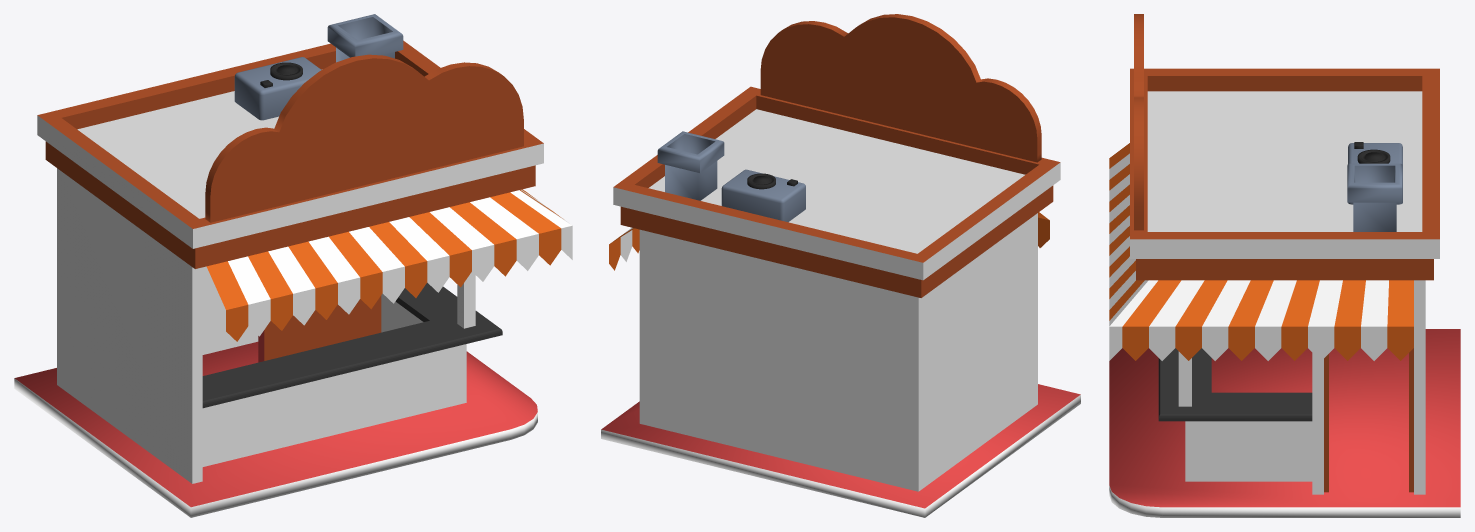
The model's file is Resturant_2.fbx.
The picture shows the model from 3 angles, left to right: view 1: azimuth 30°, elevation 25°; view 2: azimuth 150°, elevation 25°; view 3: azimuth 270°, elevation 25°; orthographic projection. The views are drawn at different scales.
Visible parts, largest first — view 1: Resturant_2; view 2: Resturant_2; view 3: Resturant_2.
Part boxes in pixels (bbox=[...]): Resturant_2: bbox=[14, 14, 572, 517]; Resturant_2: bbox=[601, 14, 1080, 517]; Resturant_2: bbox=[1109, 14, 1460, 517].
Bounding box in the file's own units: 18.72 × 15 × 19.09.
